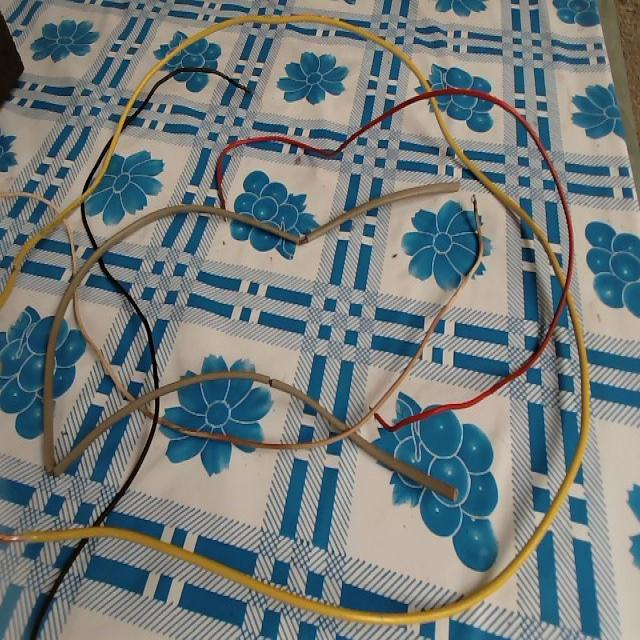-: (0, 529, 23, 551), (44, 453, 59, 480), (465, 188, 482, 211), (294, 231, 307, 248), (265, 374, 277, 389)
